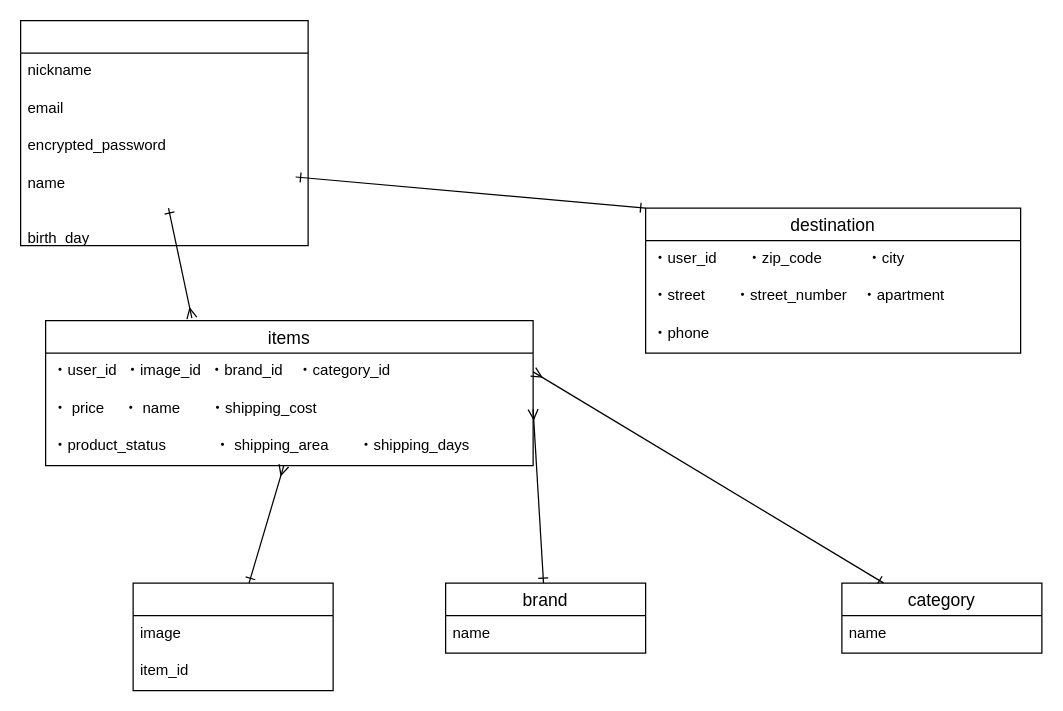
Image size: 1063x711. Some labels were removed from this diagram. Each missing label, with the box of its shape:
images: (132, 582, 333, 691)
users: (19, 19, 308, 246)
